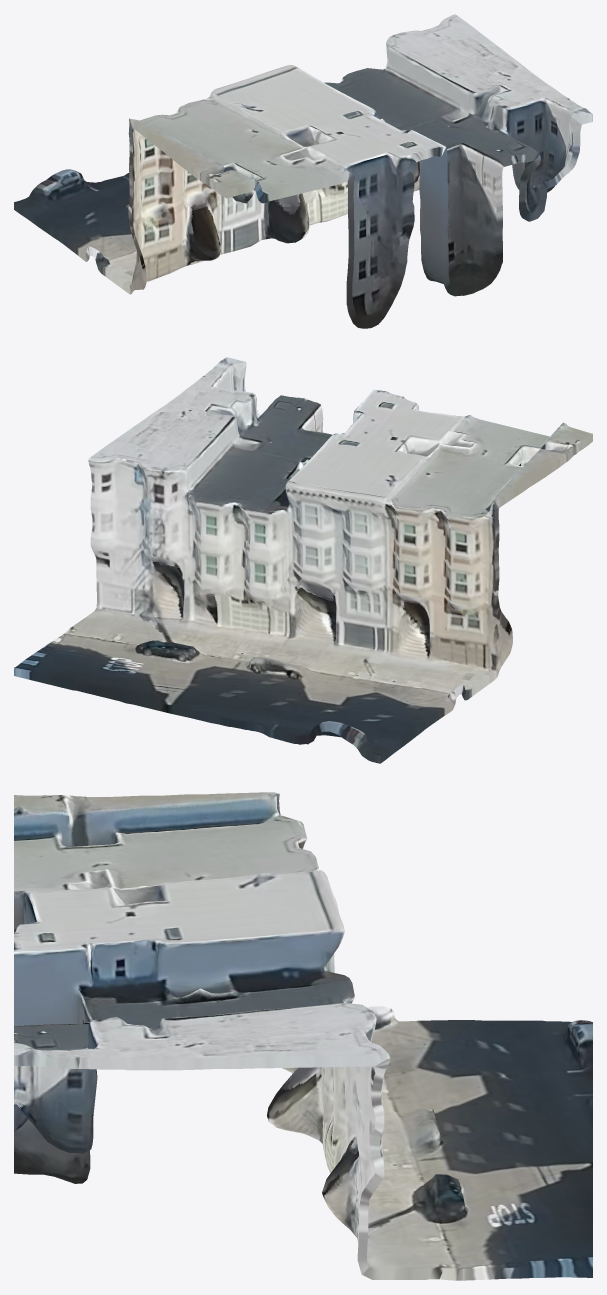
The model's file is z20-167724-405192-h0-yup-uvflip-v3-world.glb.
3 renders of one model, top to bottom at view 1: azimuth 30°, elevation 25°; view 2: azimuth 150°, elevation 25°; view 3: azimuth 270°, elevation 25°, orthographic. The views are drawn at different scales.
Size of the model in its own units: 30.16 by 14.44 by 30.32.
1 material, 1 textured.
